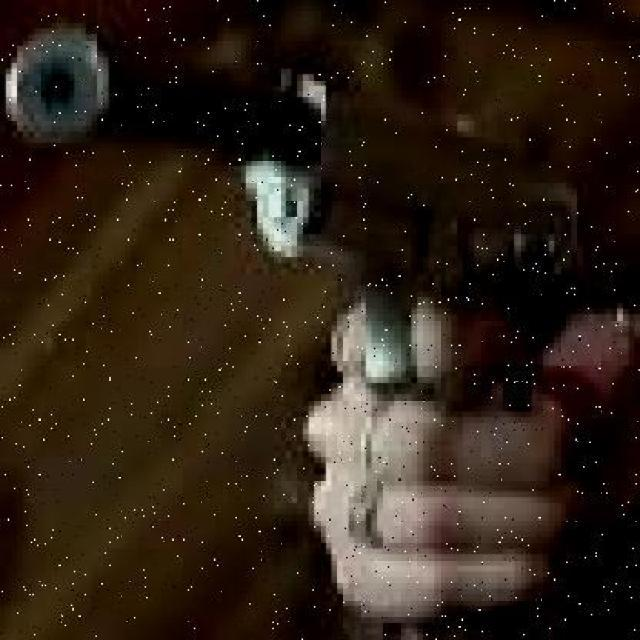rifle: (5, 18, 569, 501)
